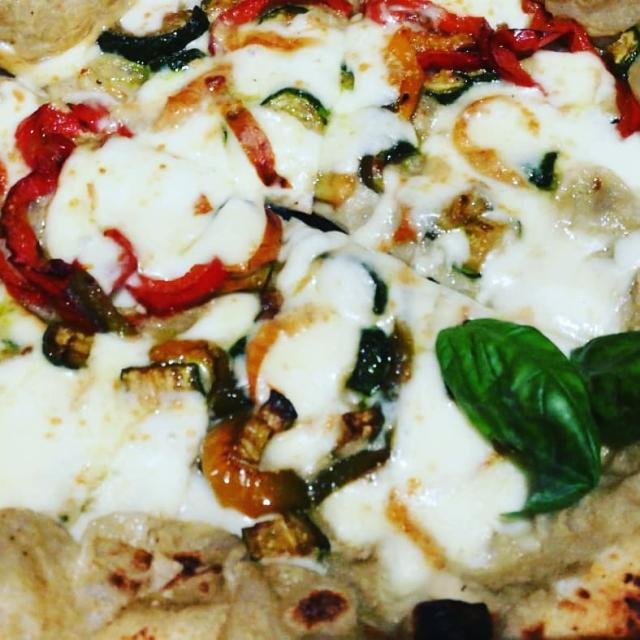basil: (429, 311, 592, 528), (563, 322, 640, 456)
pizza: (0, 0, 640, 640)
